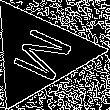M_SE: (2, 21, 76, 85)
